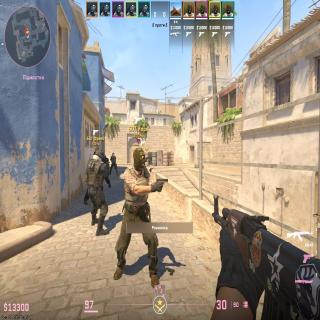CT-Body: (87, 149, 108, 235), (102, 152, 110, 187), (110, 152, 118, 175)
CT-Head: (96, 150, 102, 160), (102, 153, 104, 156), (112, 153, 114, 155)
T-Body: (123, 148, 153, 287)
T-Head: (133, 147, 145, 168)
